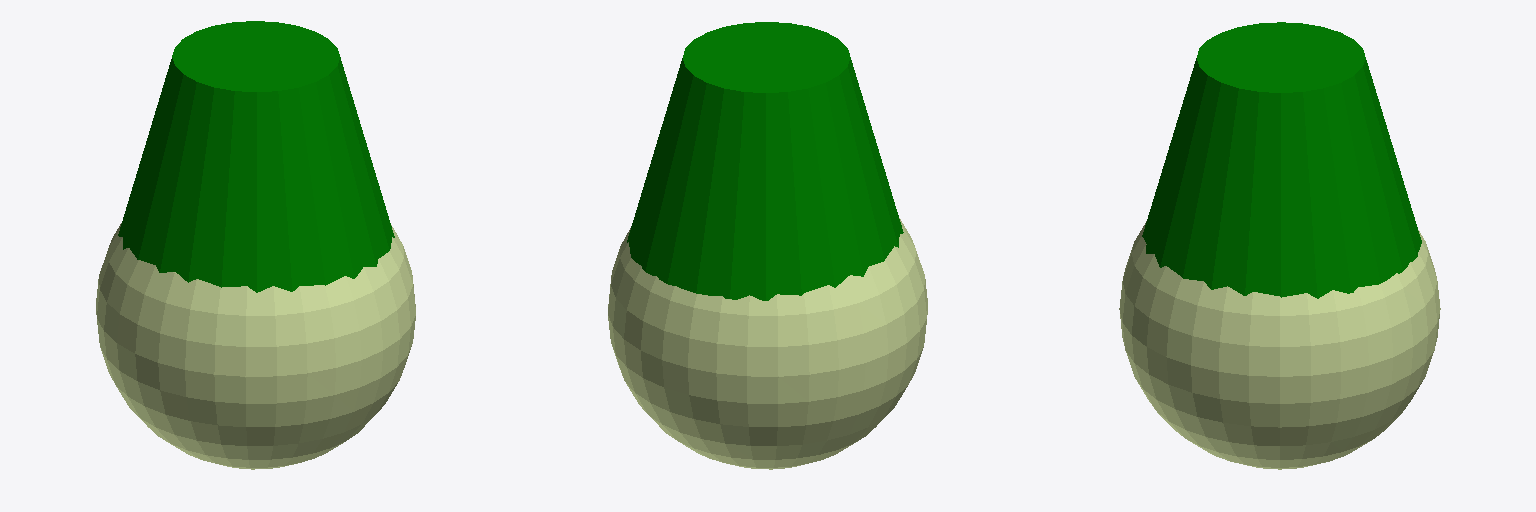
Rendered from light.obj.
3 renders of one model, left to right at view 1: azimuth 30°, elevation 25°; view 2: azimuth 150°, elevation 25°; view 3: azimuth 270°, elevation 25°, orthographic.
Visible parts, largest first — view 1: Cone001, Sphere001; view 2: Cone001, Sphere001; view 3: Cone001, Sphere001.
Part boxes in pixels (x1,y1,x2,y2): Cone001: (118, 21, 394, 292); Sphere001: (96, 223, 415, 469); Cone001: (627, 22, 903, 300); Sphere001: (608, 218, 927, 469); Cone001: (1142, 22, 1421, 298); Sphere001: (1119, 221, 1440, 469).
Size of the model in its own units: 7.95 by 10.85 by 7.95.